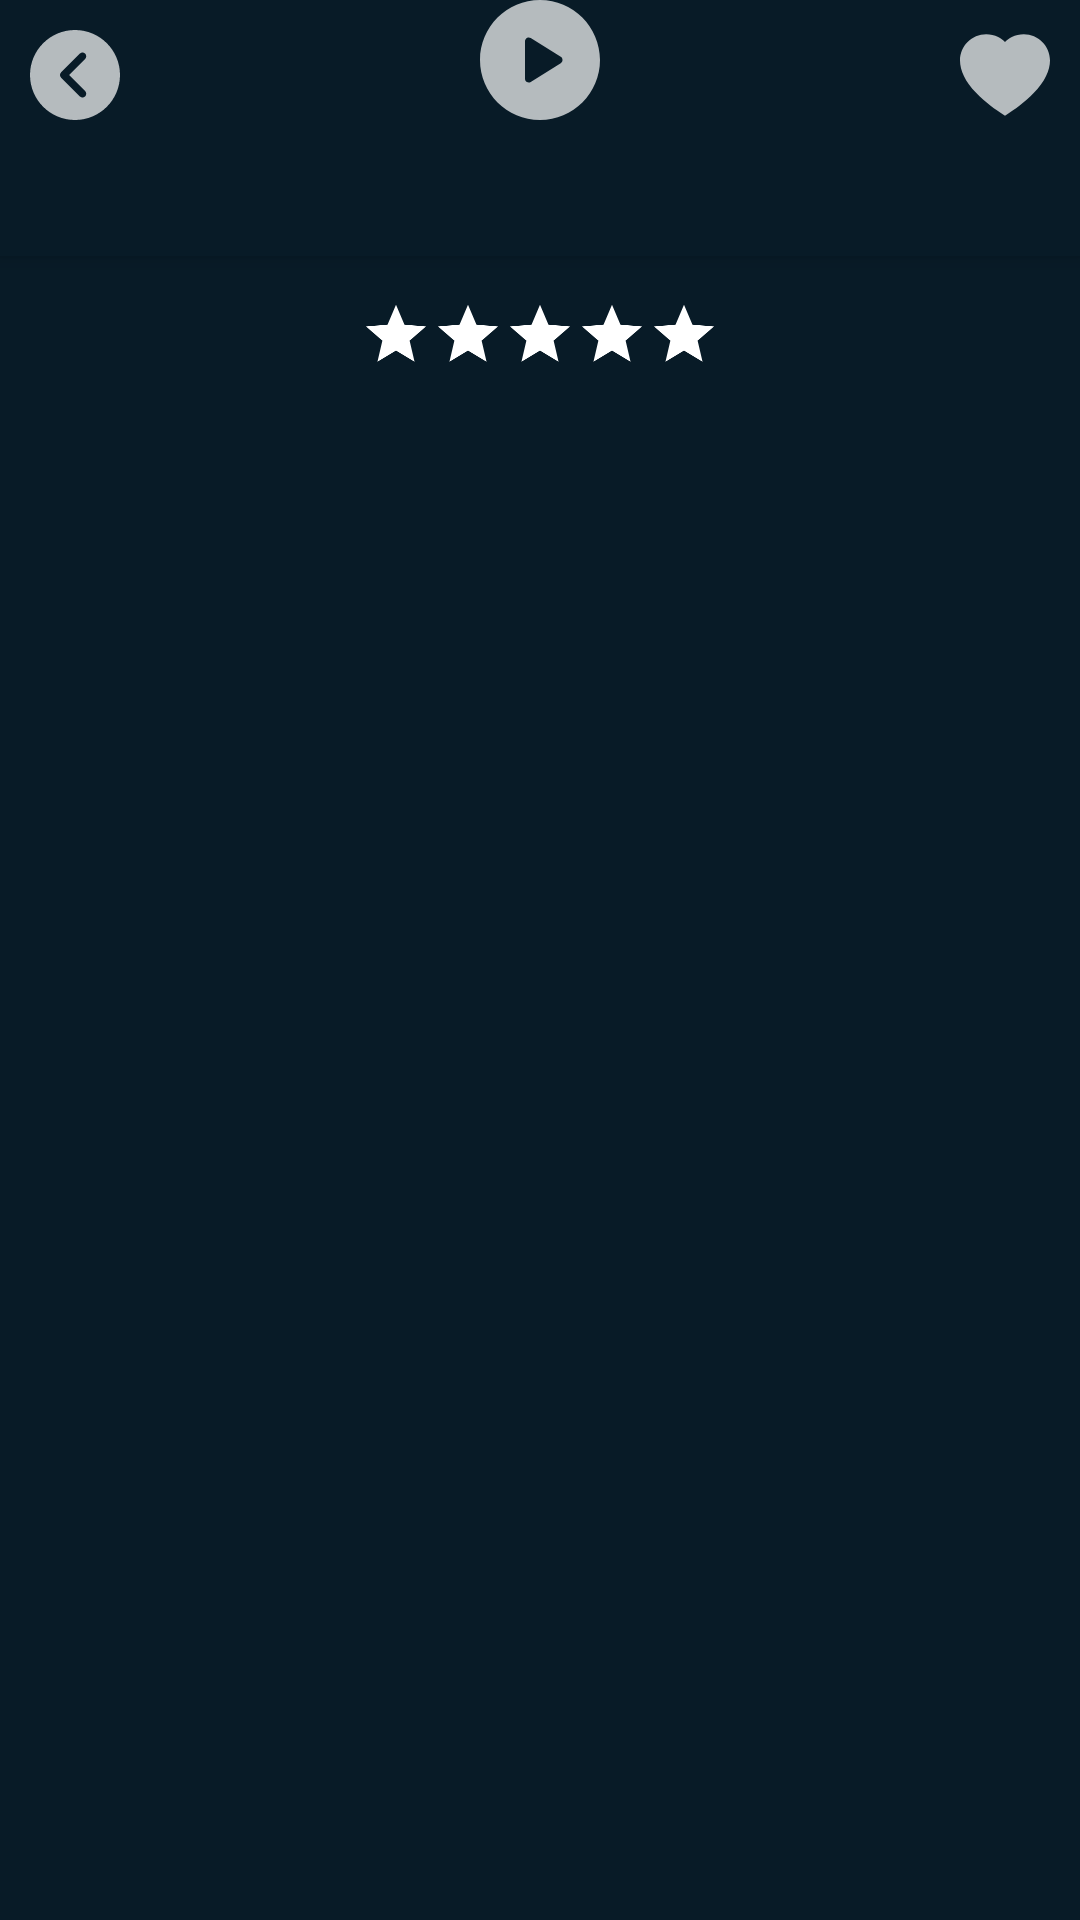

Screen size 1080 x 1920. Icon name, then its box in pixels as (x1, y1, x2, y2):
back: (30, 30, 120, 120)
heart: (960, 34, 1050, 116)
play: (480, 0, 600, 120)
